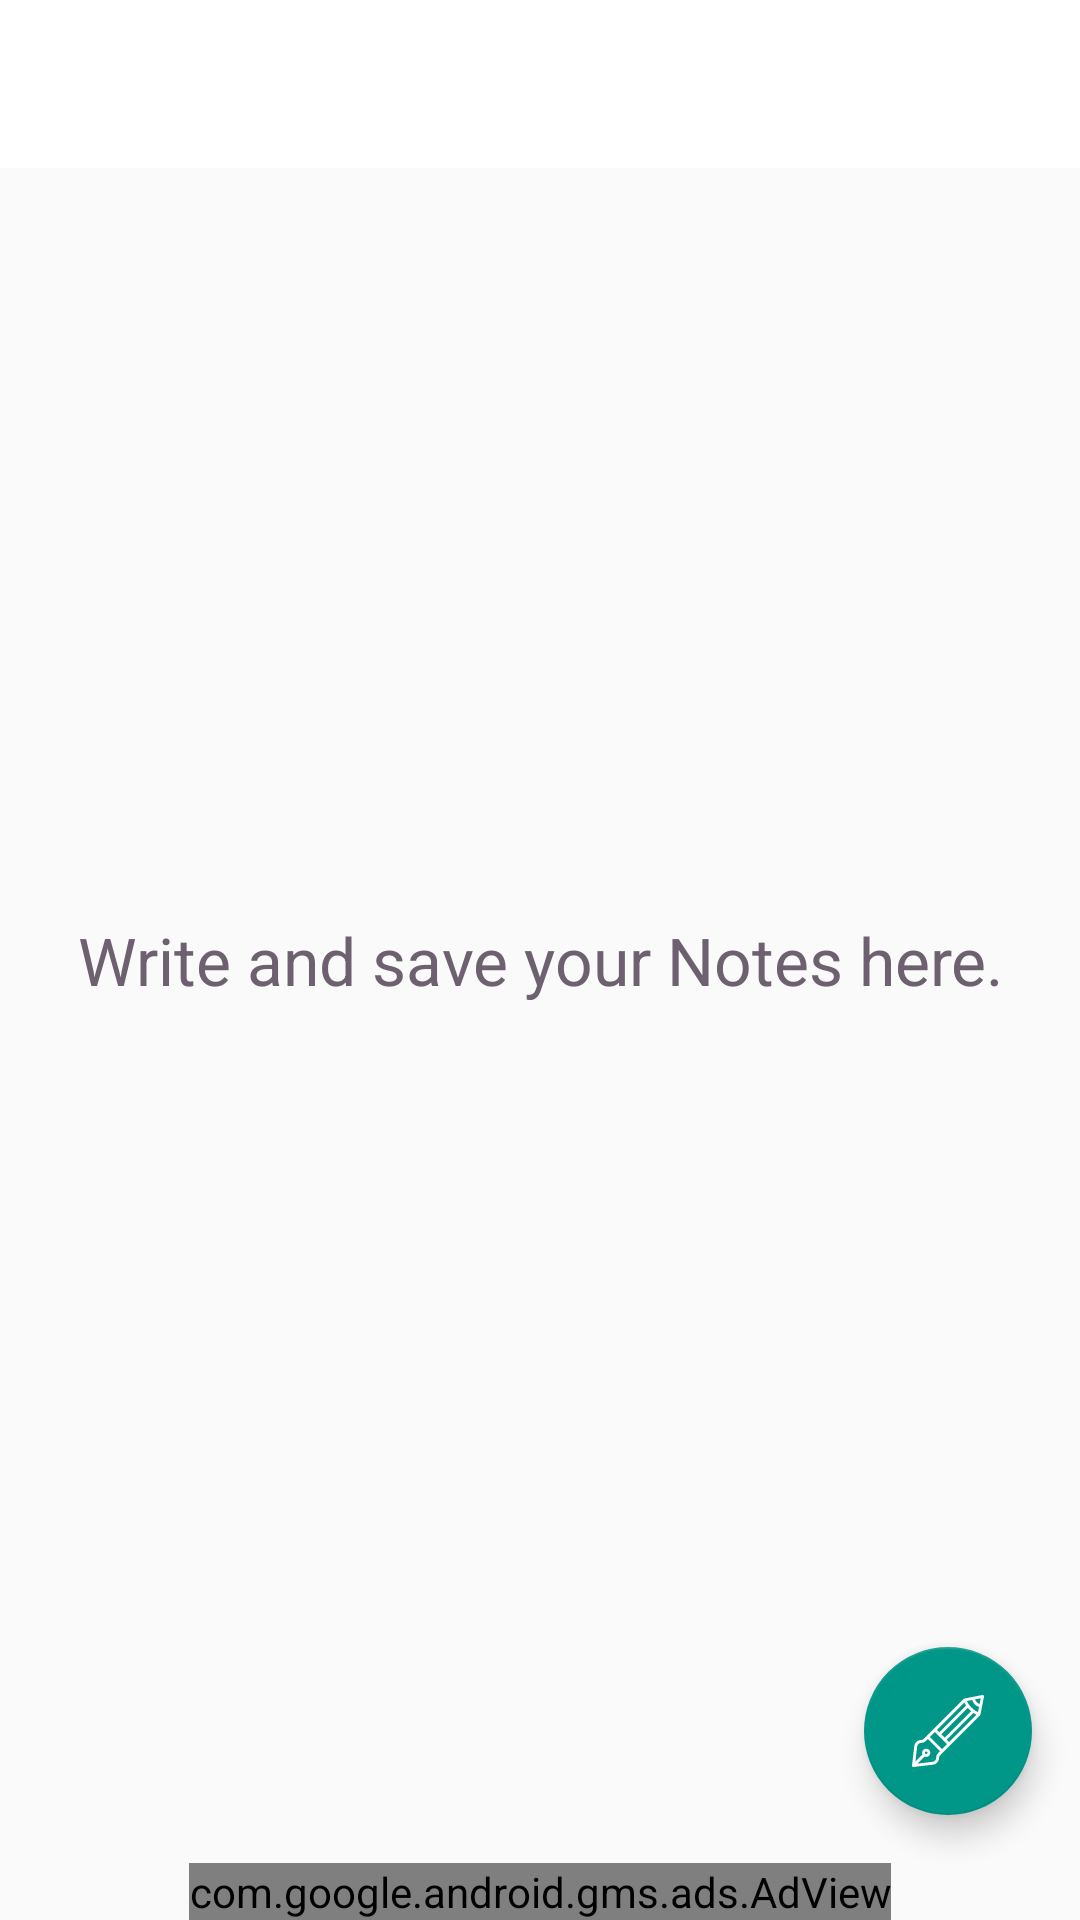

Named icons in this screenshot (1080 × 1920) and their centers, (x=x, y=y):
pencil: (x=948, y=1731)
